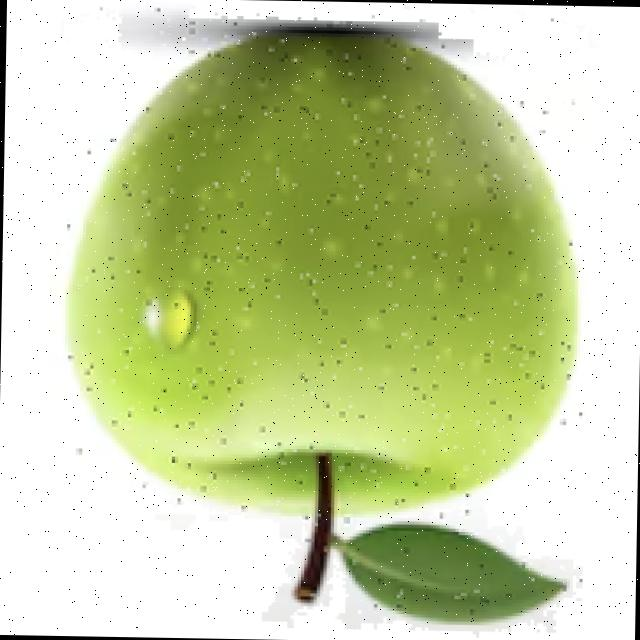apple: (63, 3, 585, 636)
